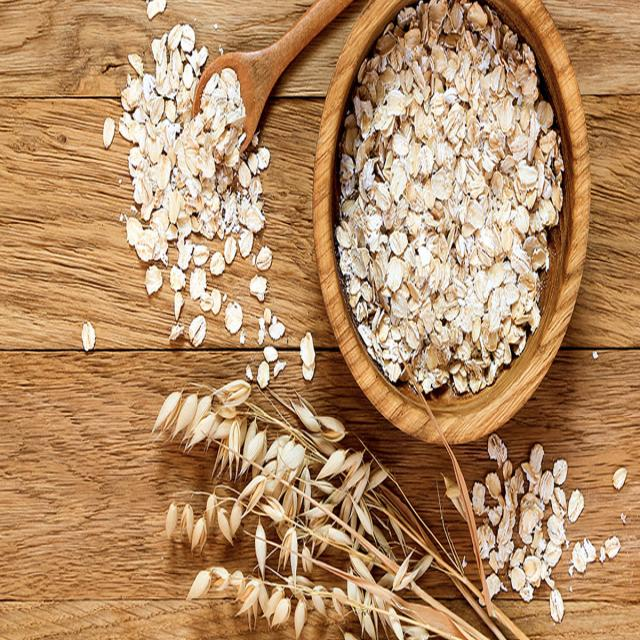avena: (340, 3, 577, 401)
